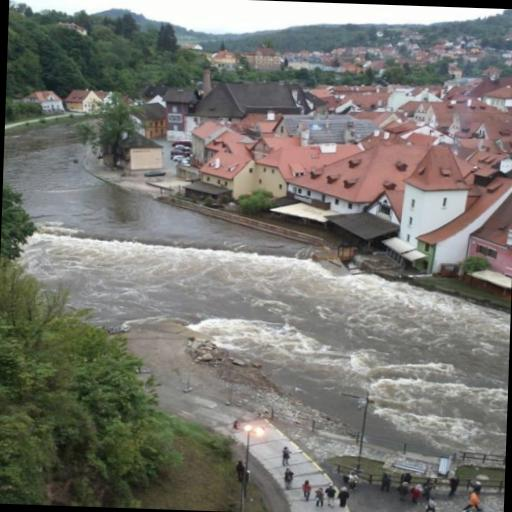flood: (2, 123, 510, 451), (349, 486, 424, 512), (437, 497, 464, 512), (484, 496, 504, 512)
house: (267, 128, 402, 214), (388, 126, 475, 244), (462, 174, 512, 291), (192, 116, 260, 197), (193, 78, 301, 120), (111, 138, 169, 172), (126, 100, 166, 140), (26, 89, 64, 113), (66, 88, 102, 112)
